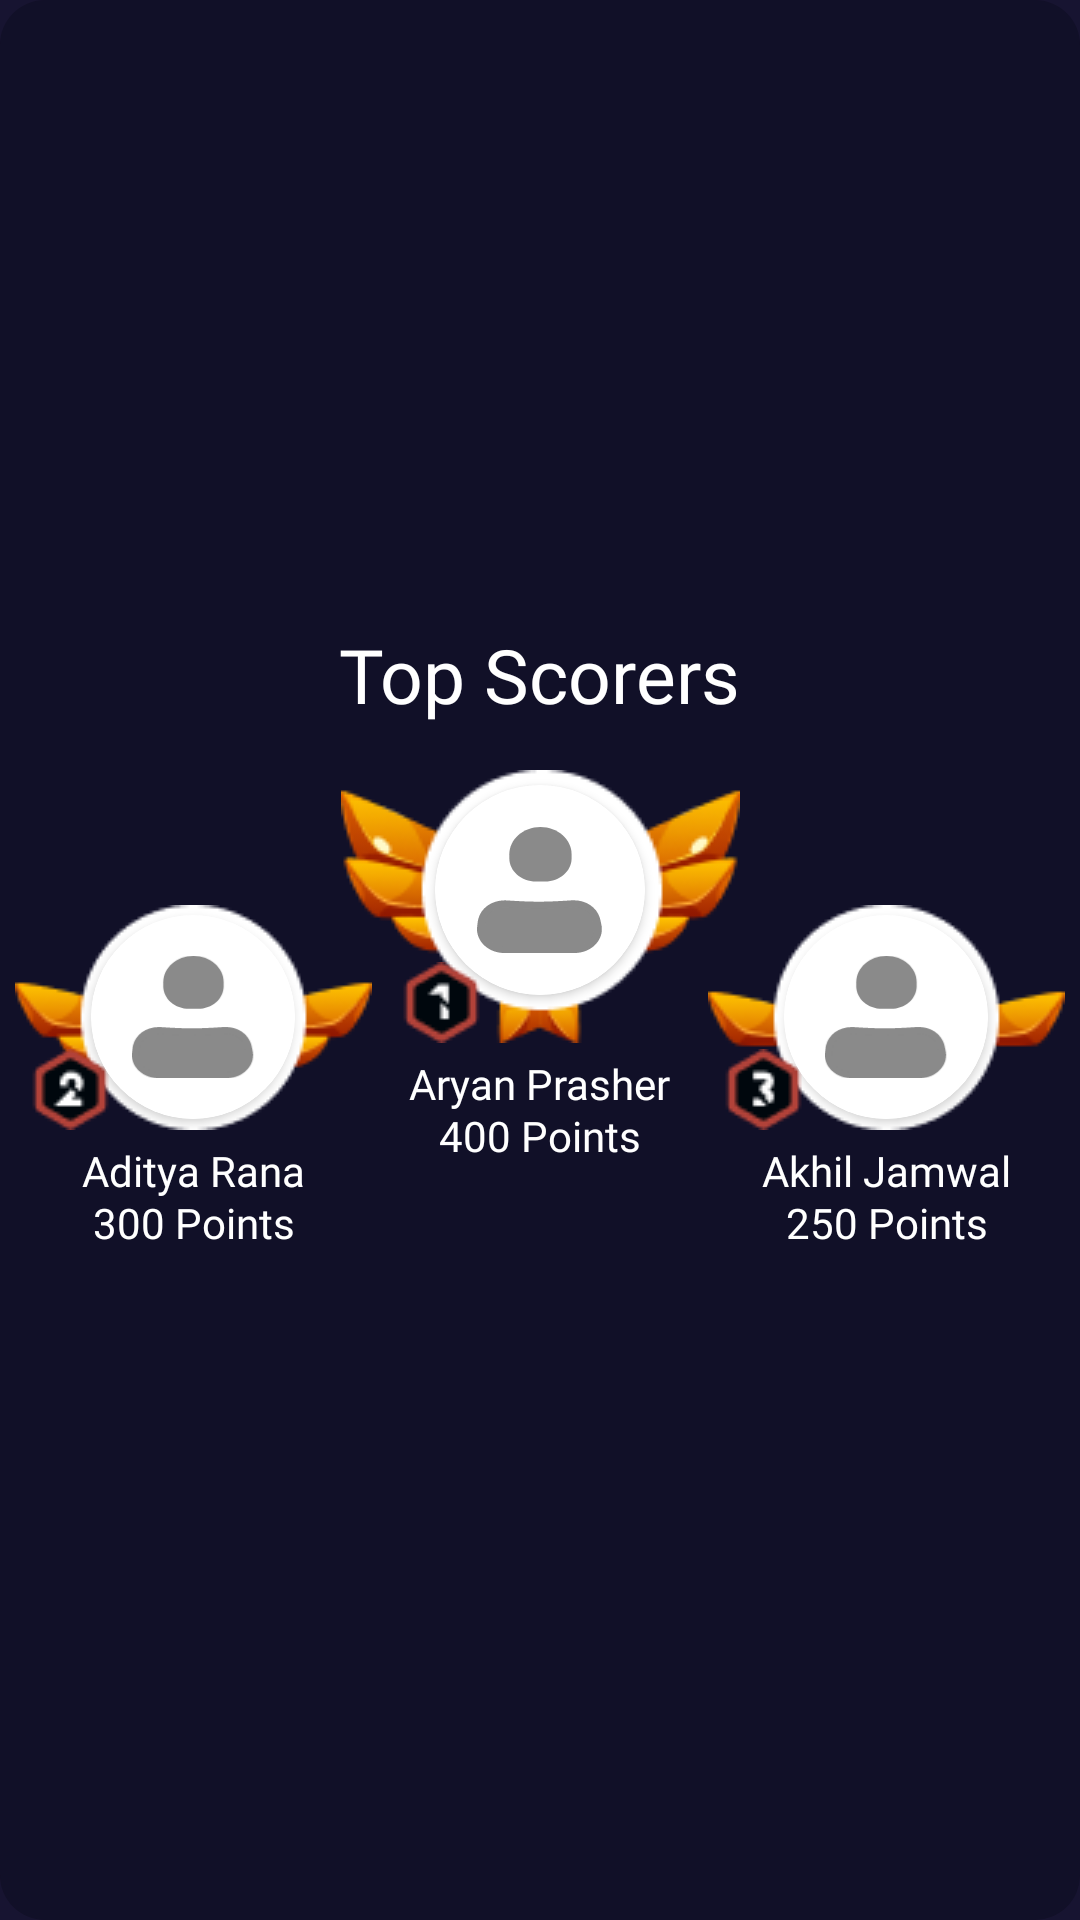

Icons on this 1080w x 1920h Android screen, each with its box as box(x1, y1, x2, y2):
hexagon: box(404, 962, 482, 1043), box(33, 1049, 111, 1130), box(726, 1049, 804, 1130)
